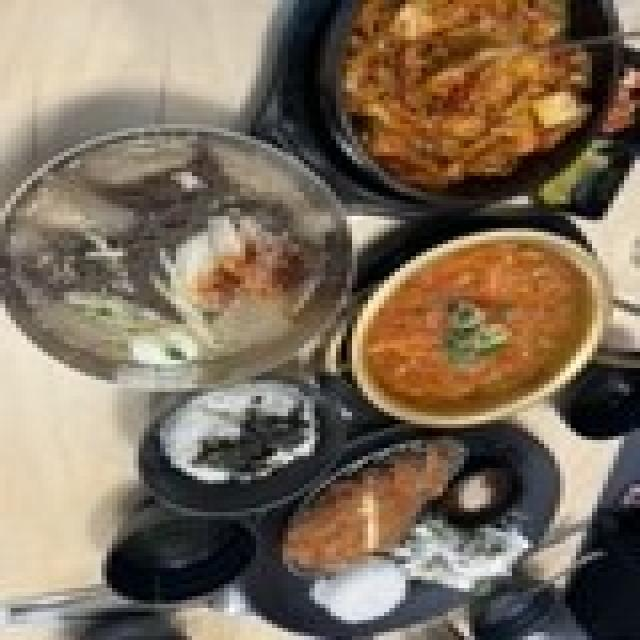Bowl: (0, 120, 352, 392), (313, 0, 619, 205), (251, 440, 556, 634), (347, 224, 608, 428), (144, 389, 326, 514), (100, 508, 251, 608)
